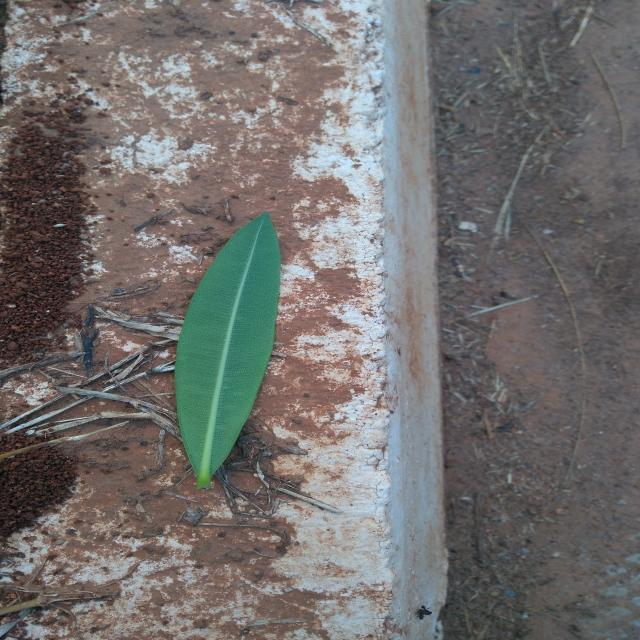ganigale: (176, 212, 280, 488)
